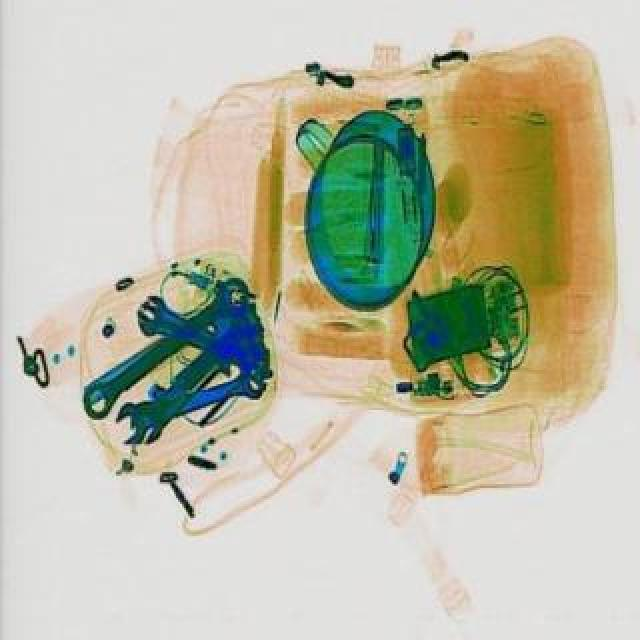scissors: (70, 268, 262, 420), (106, 356, 270, 448), (126, 286, 278, 382)
